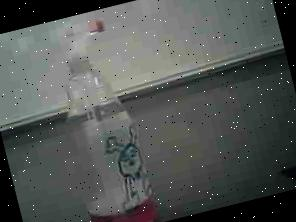hazard: (28, 3, 175, 222)
